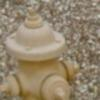a fire hydrant: (1, 8, 74, 100)
